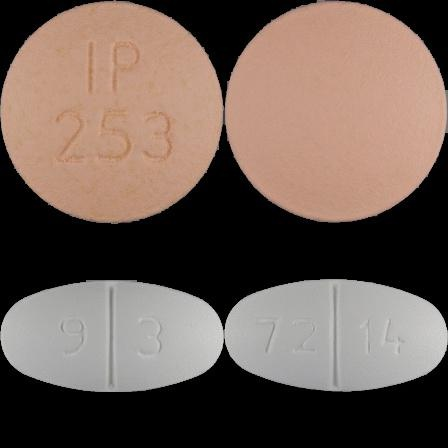10544-056: (0, 0, 224, 224)
